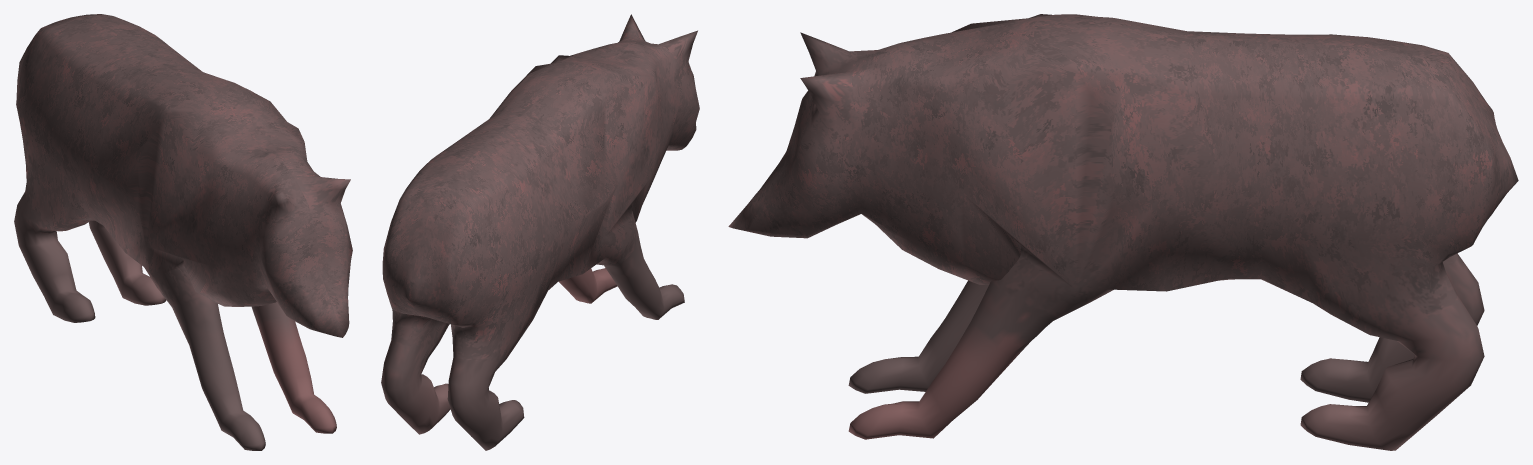
File: piesblend_000035.obj
The picture shows the model from 3 angles, left to right: view 1: azimuth 30°, elevation 25°; view 2: azimuth 150°, elevation 25°; view 3: azimuth 270°, elevation 25°; orthographic projection. The views are drawn at different scales.
Visible parts, largest first — view 1: Cube; view 2: Cube; view 3: Cube.
Part boxes in pixels (bbox=[...]): Cube: bbox=[14, 14, 352, 450]; Cube: bbox=[381, 14, 699, 450]; Cube: bbox=[728, 14, 1518, 450].
Size of the model in its own units: 2.55 by 5.11 by 9.14.
Materials: 1 (1 with a texture image).
